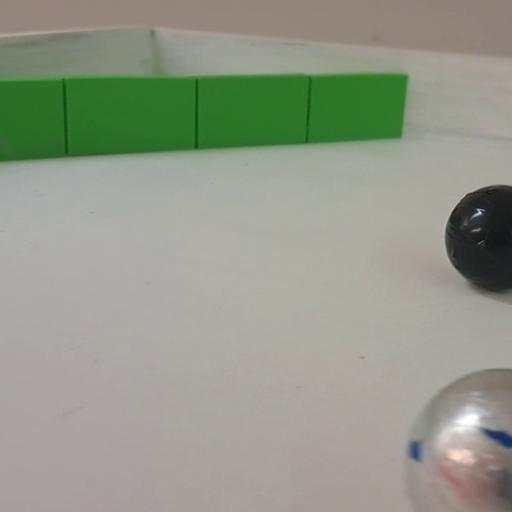alive: (406, 371, 509, 506)
dead: (444, 186, 510, 292)
